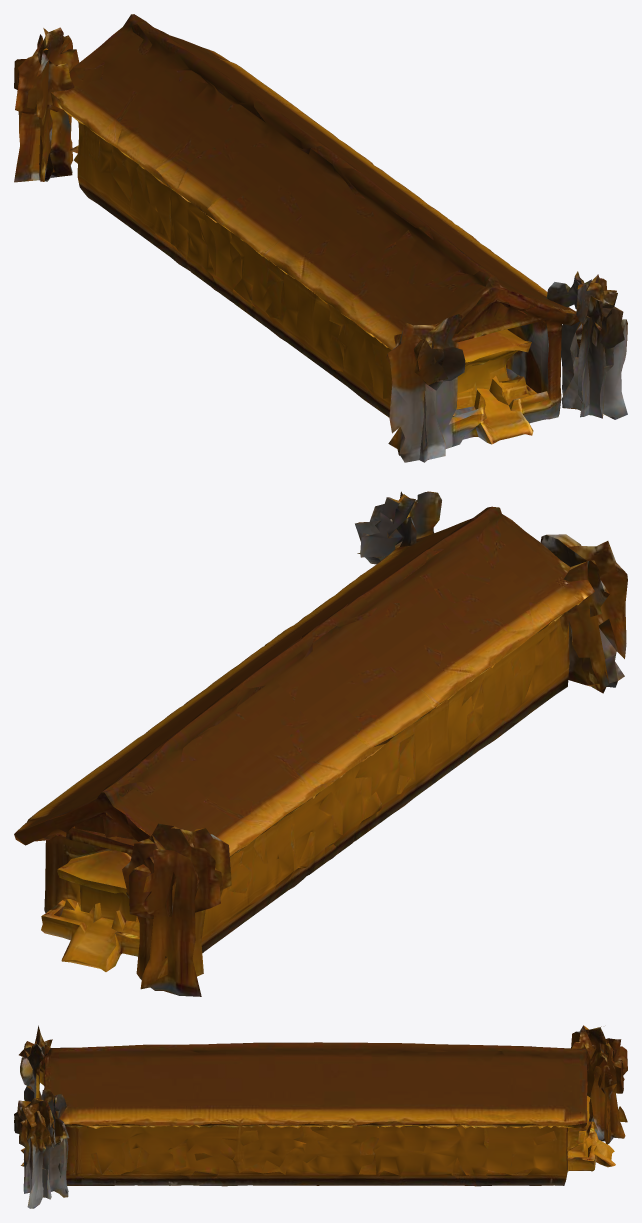
File: chusonji.glb
The picture shows the model from 3 angles, top to bottom: view 1: azimuth 30°, elevation 25°; view 2: azimuth 150°, elevation 25°; view 3: azimuth 270°, elevation 25°; orthographic projection. The views are drawn at different scales.
Parts seen in each view (by area): view 1: logan-textured.obj; view 2: logan-textured.obj; view 3: logan-textured.obj.
Boxes of the visible parts, bbox=[...] form: logan-textured.obj: bbox=[14, 14, 627, 462]; logan-textured.obj: bbox=[14, 491, 627, 996]; logan-textured.obj: bbox=[14, 1025, 627, 1208].
Size of the model in its own units: 0.336 by 0.2261 by 1.
1 material, 1 textured.
